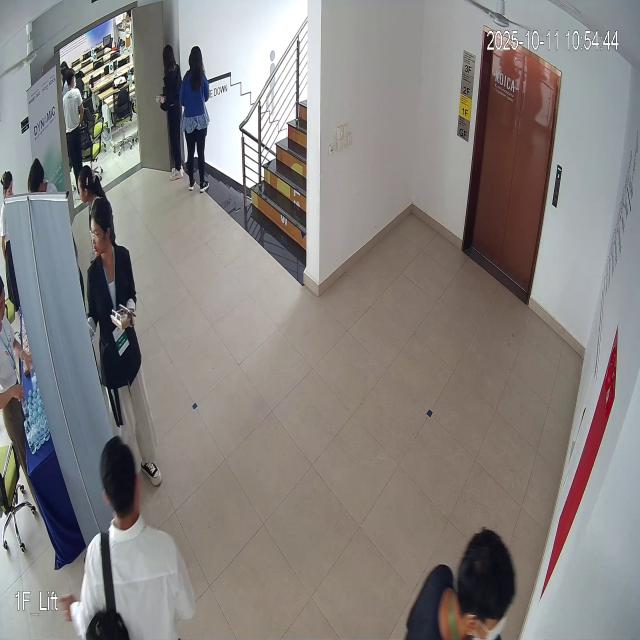face: (89, 200, 117, 262)
